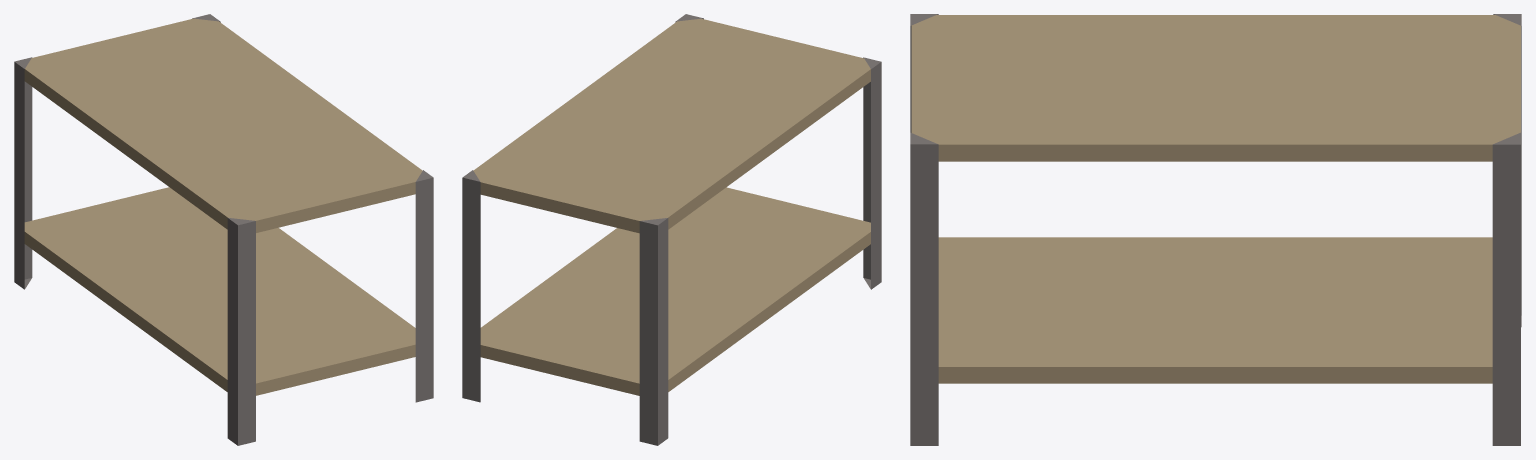
Rendered from SM_Bed_01.FBX.
3 views of the same model, side by side, from view 1: azimuth 30°, elevation 25°; view 2: azimuth 150°, elevation 25°; view 3: azimuth 270°, elevation 25° (orthographic). The views are drawn at different scales.
Parts seen in each view (by area): view 1: SM_Bed_01; view 2: SM_Bed_01; view 3: SM_Bed_01.
Boxes of the visible parts, x1,y1,x2,y2 form: SM_Bed_01: [14, 14, 433, 445]; SM_Bed_01: [462, 14, 881, 445]; SM_Bed_01: [910, 14, 1521, 445].
Bounding box in the file's own units: 132 × 261 × 142.
